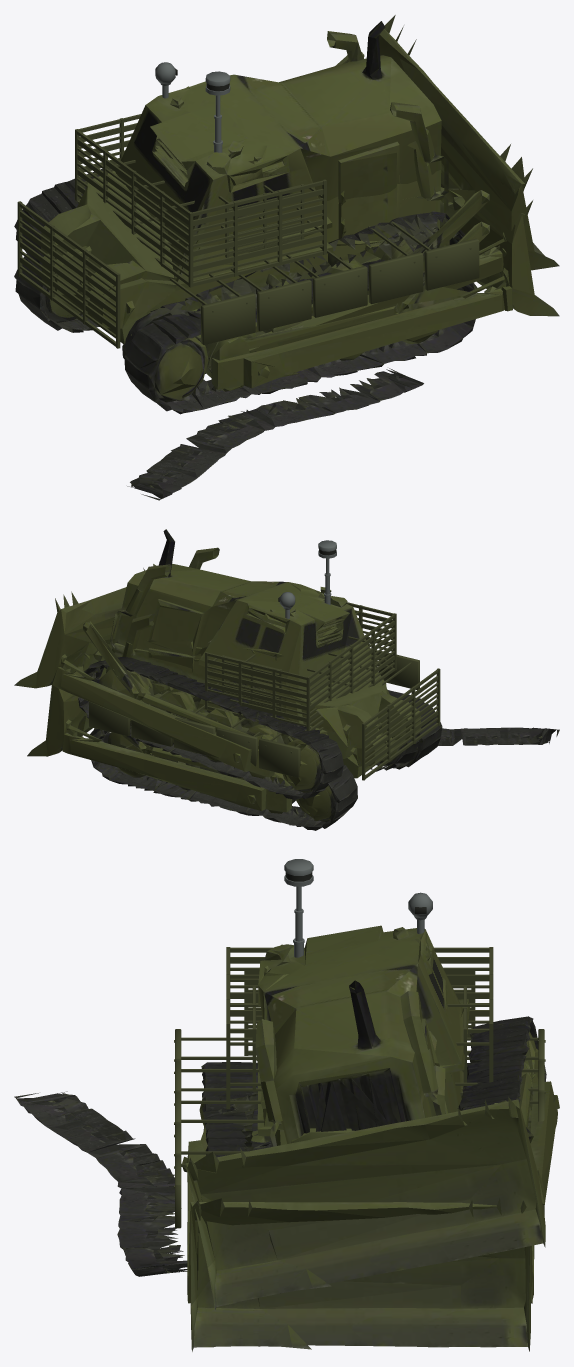
Rendered from dozer_d9.glb.
The picture shows the model from 3 angles, top to bottom: view 1: azimuth 30°, elevation 25°; view 2: azimuth 150°, elevation 25°; view 3: azimuth 270°, elevation 25°; orthographic projection. The views are drawn at different scales.
Visible parts, largest first — view 1: WRECK_hull_hull, hull_rubber, hull_hull, WRECK_hull_rubber, kit_armour_3_hull_hull, kit_armour_2_hull_hull_far, kit_armour_2_hull_hull, kit_armour_2_hull_hull_near, kit_armour_3_hull_hull_far, kit_armour_3_hull_hull_near, kit_sensors_3_hull_hull, kit_armour_1_hull_hull; view 2: WRECK_hull_hull, WRECK_hull_rubber, hull_rubber, kit_armour_3_hull_hull, hull_hull, kit_armour_2_hull_hull_far, kit_armour_2_hull_hull, kit_armour_2_hull_hull_near, kit_armour_3_hull_hull_far, kit_armour_3_hull_hull_near, kit_sensors_3_hull_hull; view 3: WRECK_hull_hull, hull_hull, WRECK_hull_rubber, kit_armour_3_hull_hull, hull_rubber, kit_armour_2_hull_hull, kit_armour_2_hull_hull_far, kit_sensors_3_hull_hull, kit_armour_2_hull_hull_near, kit_armour_1_hull_hull, kit_sensors_2_hull_hull.
Boxes of the visible parts, x1,y1,x2,y2 form: WRECK_hull_hull: (36,15,559,357); hull_rubber: (14,240,516,414); hull_hull: (33,141,559,381); WRECK_hull_rubber: (14,55,511,500); kit_armour_3_hull_hull: (17,201,479,348); kit_armour_2_hull_hull_far: (77,123,323,271); kit_armour_2_hull_hull: (75,114,326,287); kit_armour_2_hull_hull_near: (77,126,323,277); kit_armour_3_hull_hull_far: (20,211,115,331); kit_armour_3_hull_hull_near: (20,214,115,338); kit_sensors_3_hull_hull: (205,71,230,152); kit_armour_1_hull_hull: (221,184,304,257); WRECK_hull_hull: (14,529,411,776); WRECK_hull_rubber: (48,626,559,799); hull_rubber: (59,690,442,830); kit_armour_3_hull_hull: (89,648,440,780); hull_hull: (27,613,427,808); kit_armour_2_hull_hull_far: (207,610,394,721); kit_armour_2_hull_hull: (205,602,396,731); kit_armour_2_hull_hull_near: (207,614,394,726); kit_armour_3_hull_hull_far: (365,676,438,767); kit_armour_3_hull_hull_near: (365,677,438,772); kit_sensors_3_hull_hull: (318,540,336,604); WRECK_hull_hull: (185,925,545,1310); hull_hull: (188,978,532,1351); WRECK_hull_rubber: (14,1016,559,1276); kit_armour_3_hull_hull: (174,971,545,1228); hull_rubber: (182,1062,534,1303); kit_armour_2_hull_hull: (226,947,493,1109); kit_armour_2_hull_hull_far: (230,957,489,1016); kit_sensors_3_hull_hull: (284,859,313,957); kit_armour_2_hull_hull_near: (230,959,489,1023); kit_armour_1_hull_hull: (252,985,466,1091); kit_sensors_2_hull_hull: (408,892,432,933).
Bounding box in the file's own units: 8.2 × 4.61 × 6.73.
1 material, 1 textured.
